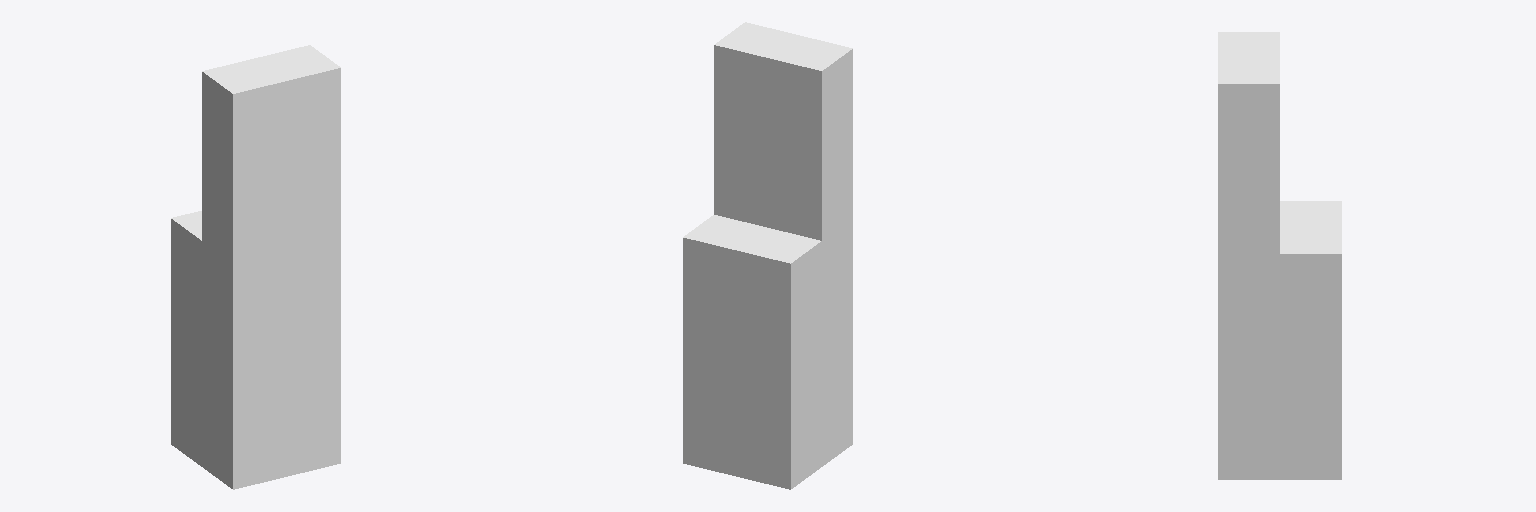
Rendered from Truck-1.obj.
3 views of the same model, side by side, from view 1: azimuth 30°, elevation 25°; view 2: azimuth 150°, elevation 25°; view 3: azimuth 270°, elevation 25° (orthographic).
Parts seen in each view (by area): view 1: Truck-1; view 2: Truck-1; view 3: Truck-1.
Boxes of the visible parts, box(x1,y1,x2,y2) form: Truck-1: box(171, 45, 340, 489); Truck-1: box(683, 22, 852, 489); Truck-1: box(1218, 32, 1341, 479).
Size of the model in its own units: 2 by 7 by 2.